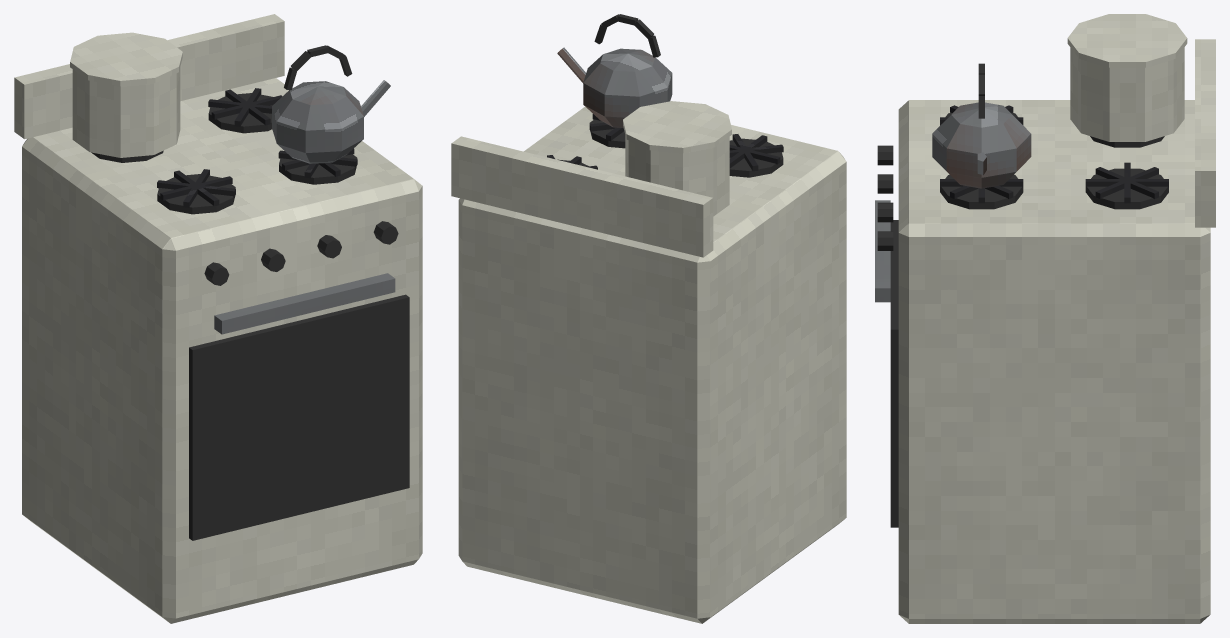
File: kitchen_stove.glb
3 views of the same model, side by side, from view 1: azimuth 30°, elevation 25°; view 2: azimuth 150°, elevation 25°; view 3: azimuth 270°, elevation 25° (orthographic). The views are drawn at different scales.
Visible parts, largest first — view 1: kitchen_stove; view 2: kitchen_stove; view 3: kitchen_stove.
Part boxes in pixels (x1,y1,x2,y2): kitchen_stove: (14,14,422,623); kitchen_stove: (451,14,846,623); kitchen_stove: (875,14,1215,623).
Size of what is drawn, in the model's own units: 0.6063 by 1.11 by 0.655.
4 materials, 3 textured.
